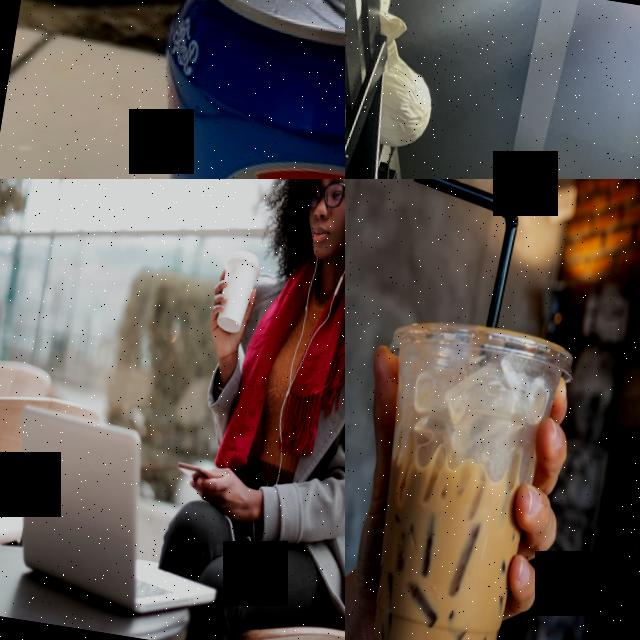can: (111, 0, 345, 179)
cup: (345, 312, 577, 640), (211, 243, 265, 338)
